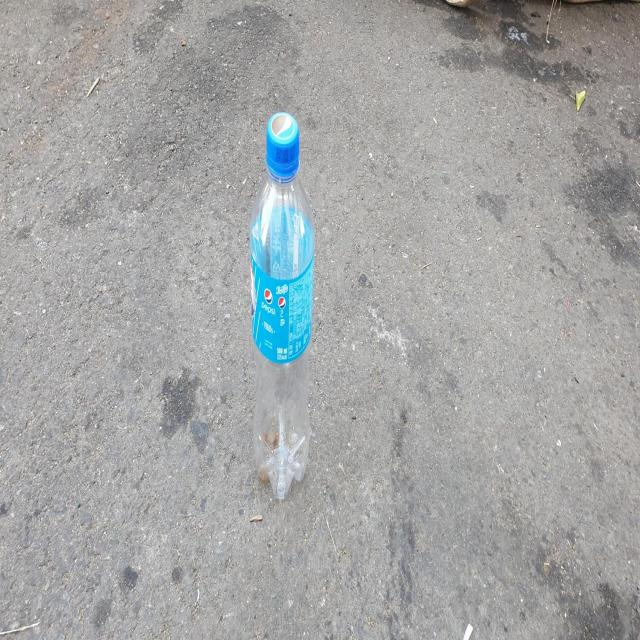plastic: (250, 110, 315, 500)
